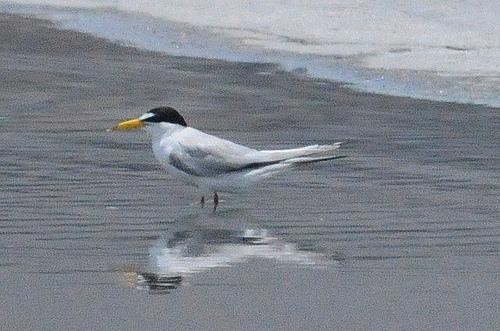bird: (108, 104, 348, 209)
